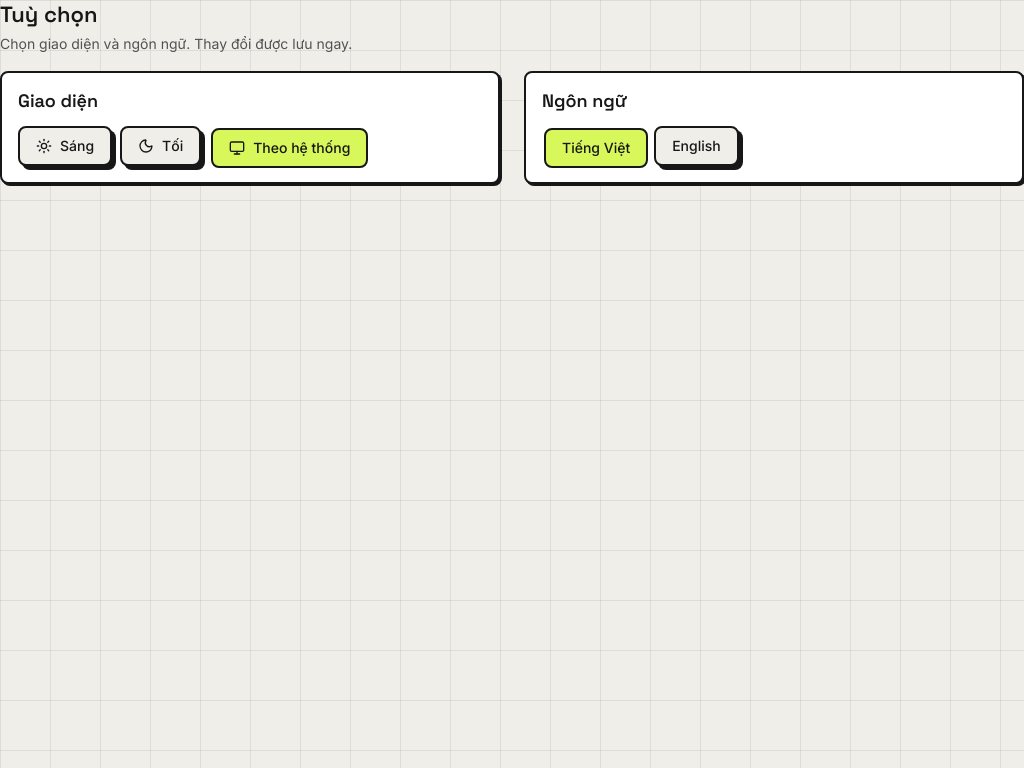
Scenario: ThemeSelector › applies the theme at once and saves it to the account
This screenshot has width=1024, height=768.
Click the button "Tối".
click(161, 146)  # box left=120, top=126, right=201, bottom=166
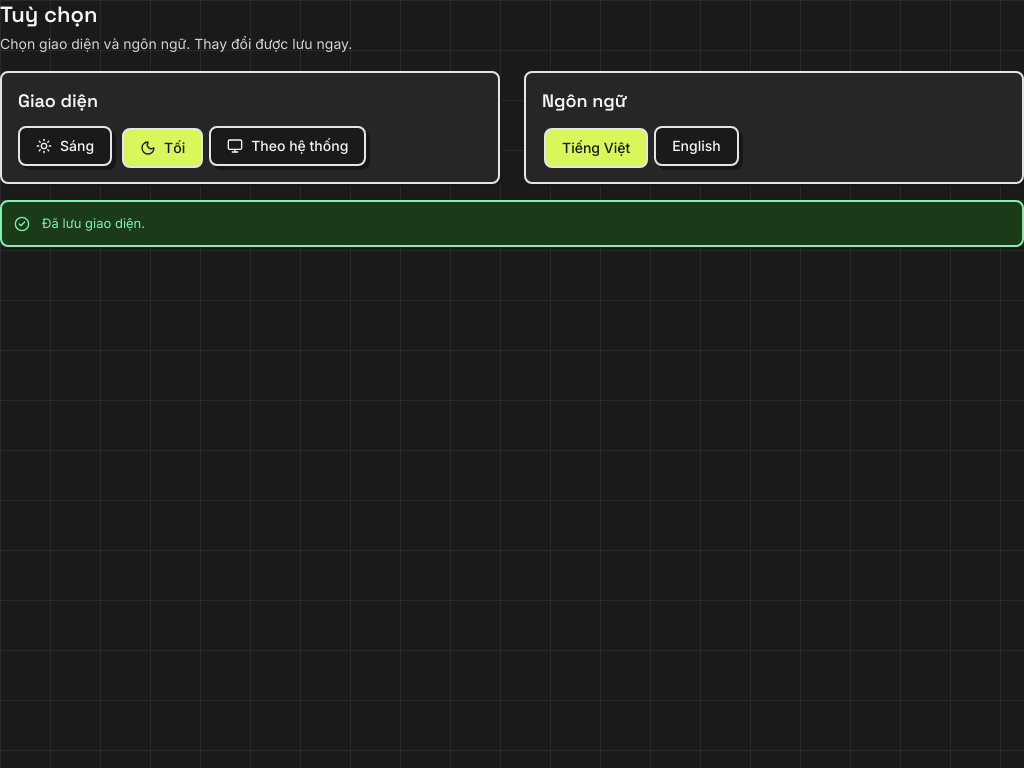
Result: the text "Đã lưu giao diện." is shown at left=42, top=215, right=145, bottom=231
